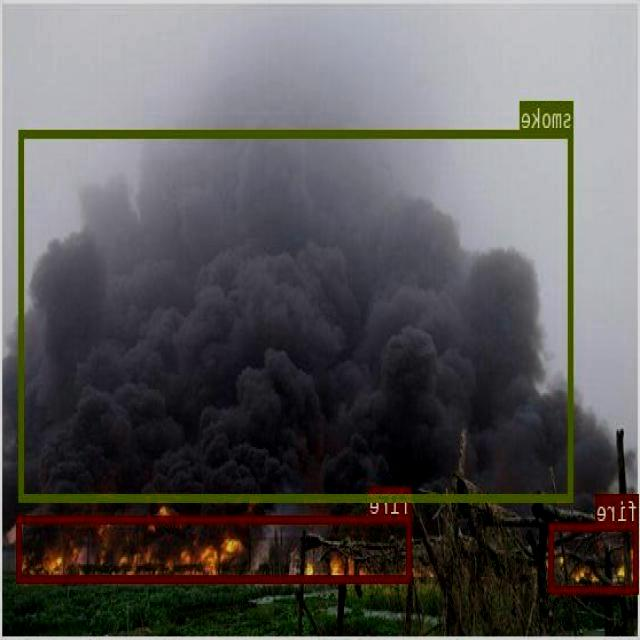fire: (18, 515, 412, 581), (550, 522, 640, 592)
smoke: (19, 130, 574, 500)
